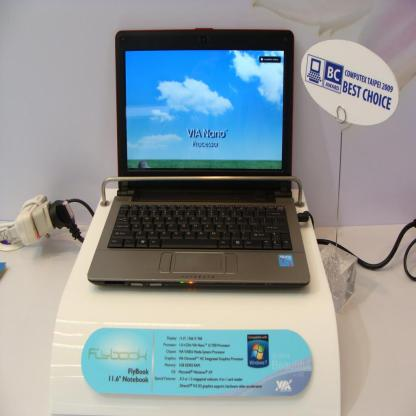board: (87, 27, 310, 287)
